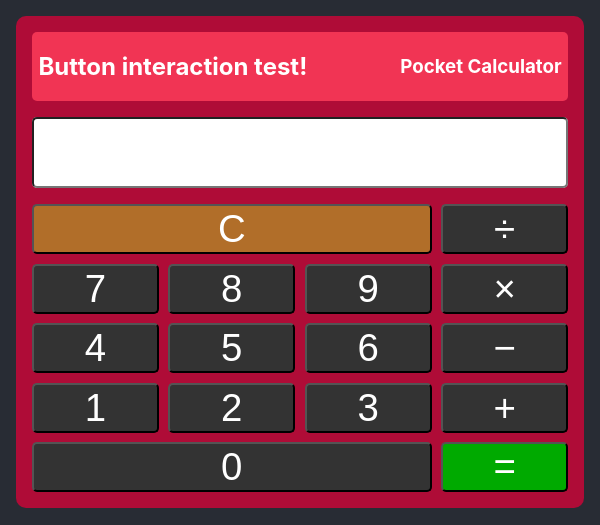
Test: Calculator component › button interactions › should render button key value entry onto the screen
The width and height of the screenshot is (600, 525).
Click the button with test id "Eight": x=232, y=289 [168,264,295,314]
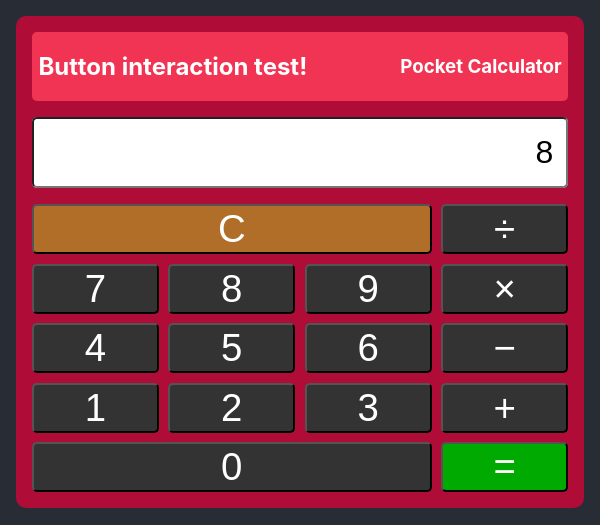
Expected: the field holds "8", [32,117,568,188]
